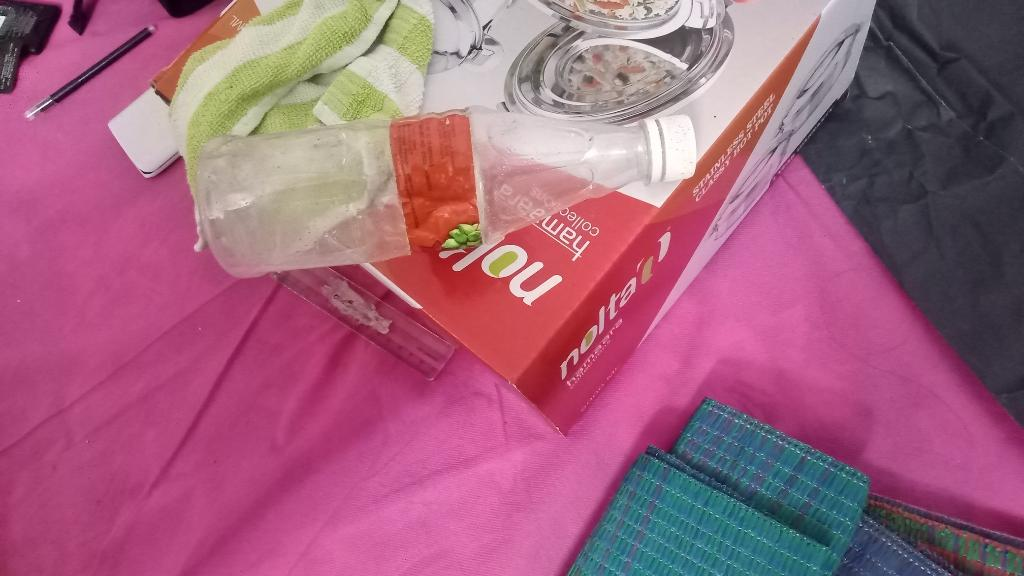garbage: (186, 71, 711, 288)
